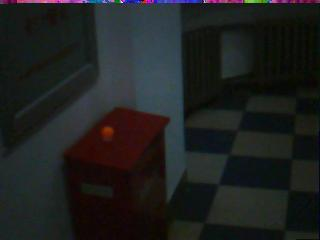oball: (101, 127, 114, 138)
